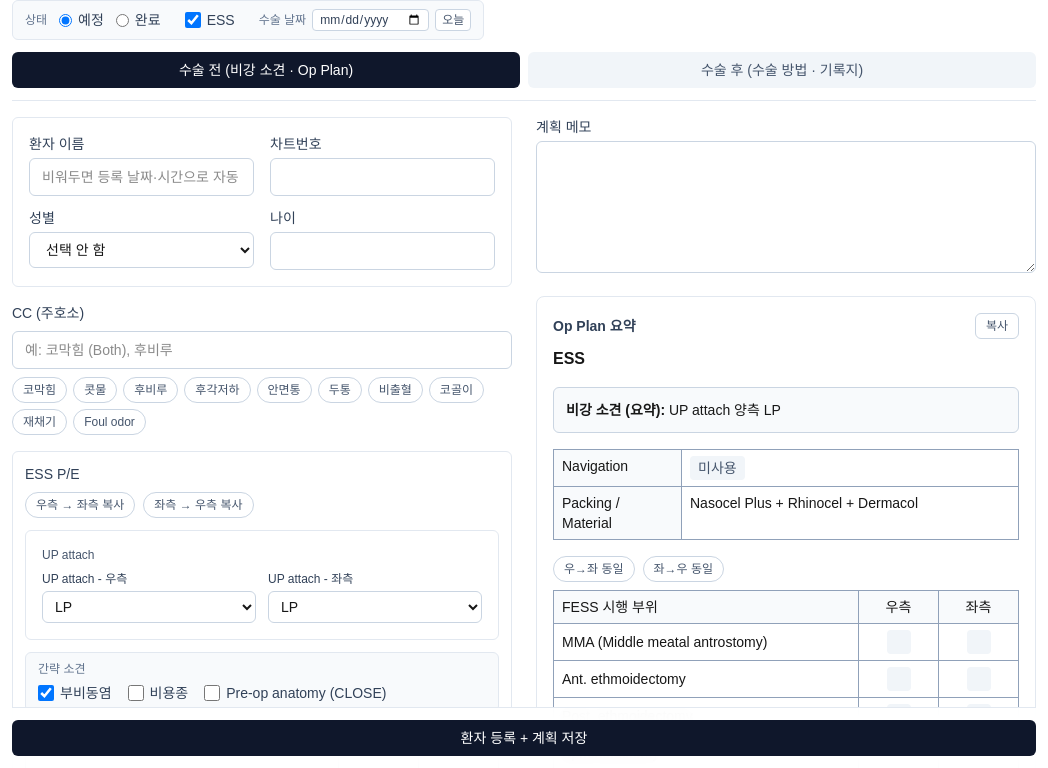
it: 수술 날짜 › 새 환자를 완료 상태로 등록하면 비어 있던 날짜를 오늘로 채우고 기록지 초안에도 반영한다
The width and height of the screenshot is (1048, 768).
Click the radio button named "planStatus" at [122, 20], box [116, 14, 129, 26]
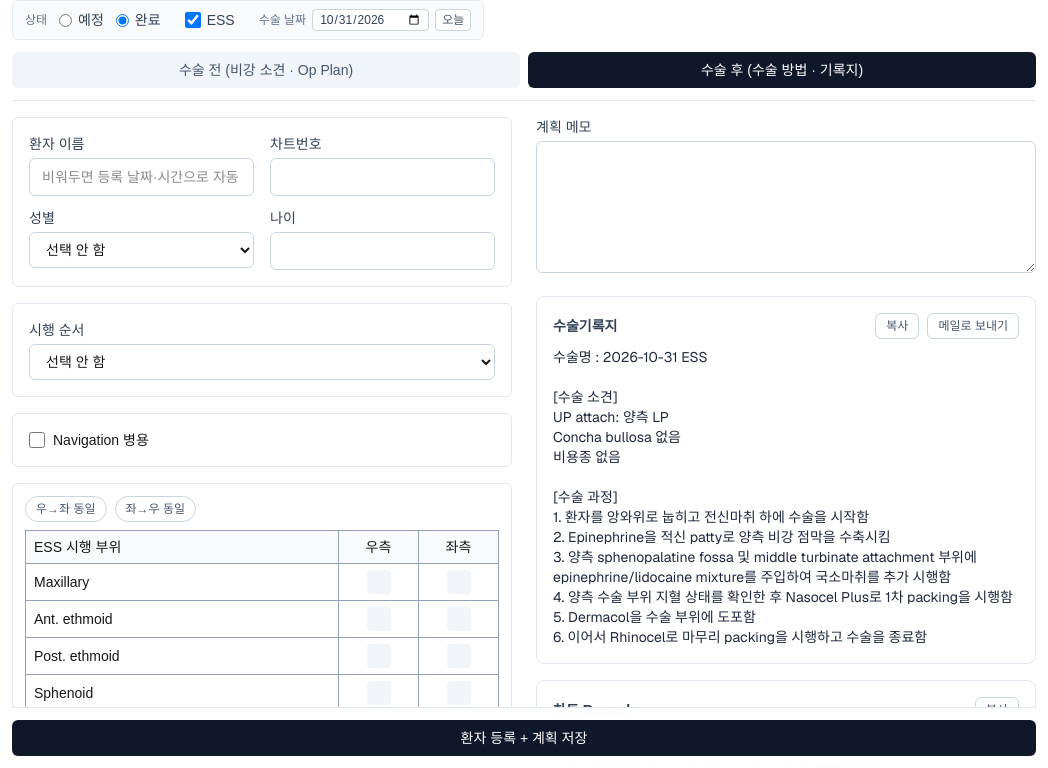
Now the text "2026-10-31" is shown, box [553, 348, 1013, 646]
